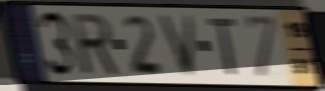2: (125, 13, 165, 78)
3: (35, 9, 76, 78)
7: (245, 13, 280, 81)
R: (68, 11, 122, 78)
T: (206, 17, 239, 78)
V: (155, 12, 197, 80)
